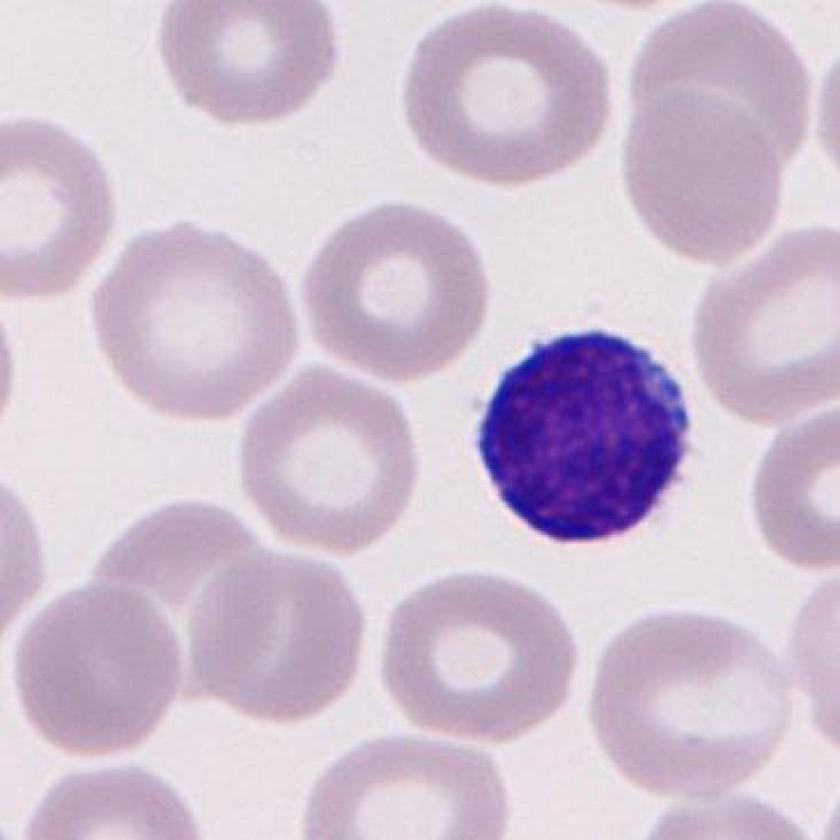lymphocyte: (464, 311, 708, 561)
